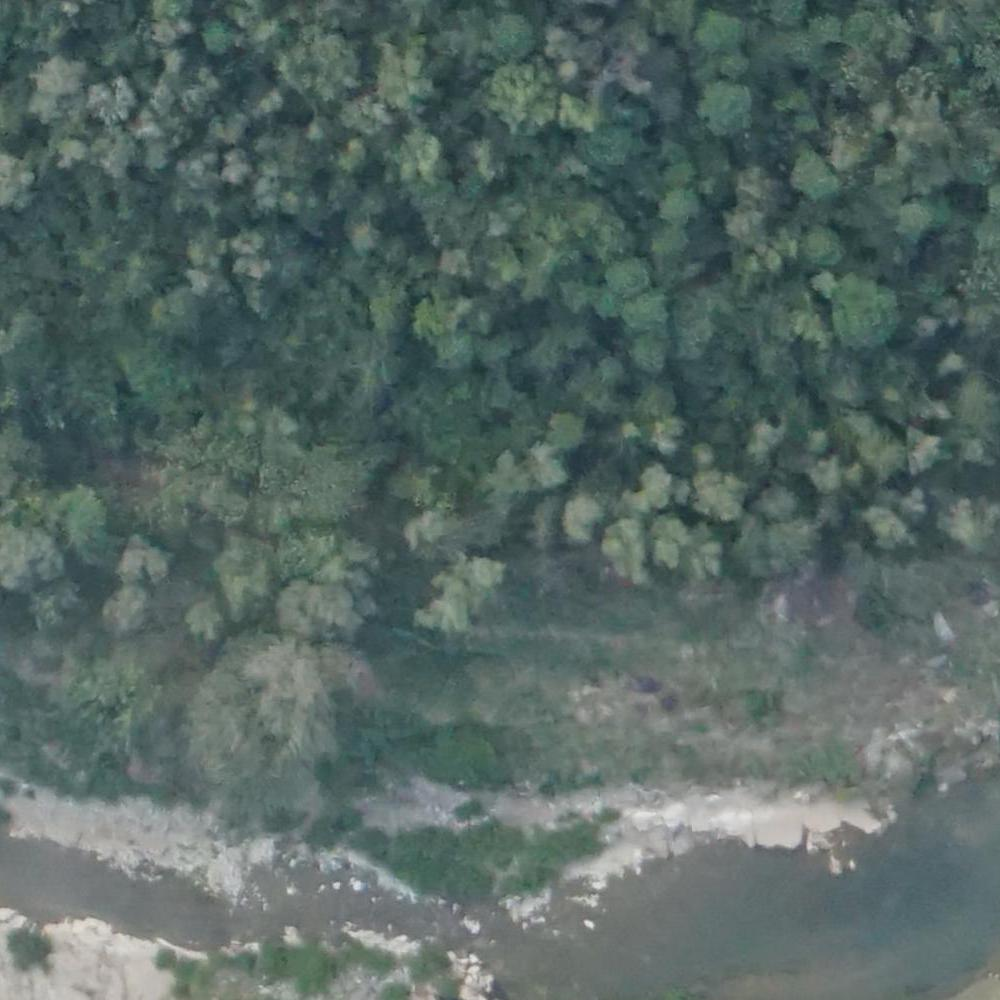tree: (826, 274, 899, 352), (500, 64, 561, 134), (275, 584, 352, 637), (783, 137, 845, 201), (691, 470, 754, 526), (703, 78, 760, 139), (118, 528, 174, 588), (49, 489, 106, 546), (371, 48, 426, 105), (406, 510, 461, 565), (90, 128, 143, 185), (212, 546, 274, 594), (99, 582, 156, 634), (219, 225, 272, 278), (399, 129, 449, 183), (545, 405, 593, 461), (174, 596, 230, 642), (1, 146, 40, 212), (603, 524, 651, 575), (695, 7, 748, 53), (83, 75, 136, 121), (891, 202, 935, 257), (864, 428, 911, 478), (806, 218, 849, 272), (866, 501, 909, 555), (412, 296, 468, 335), (156, 291, 203, 335), (592, 119, 639, 163), (36, 57, 83, 101), (646, 223, 694, 266), (661, 178, 704, 223), (626, 285, 671, 326), (746, 415, 785, 462), (27, 579, 71, 619), (203, 19, 238, 69), (343, 91, 391, 127), (847, 10, 889, 51), (436, 325, 473, 370), (477, 10, 520, 46), (629, 329, 668, 367), (566, 495, 605, 533), (631, 461, 669, 499), (213, 152, 251, 187), (609, 261, 645, 289), (773, 1, 811, 26), (718, 57, 754, 81)
